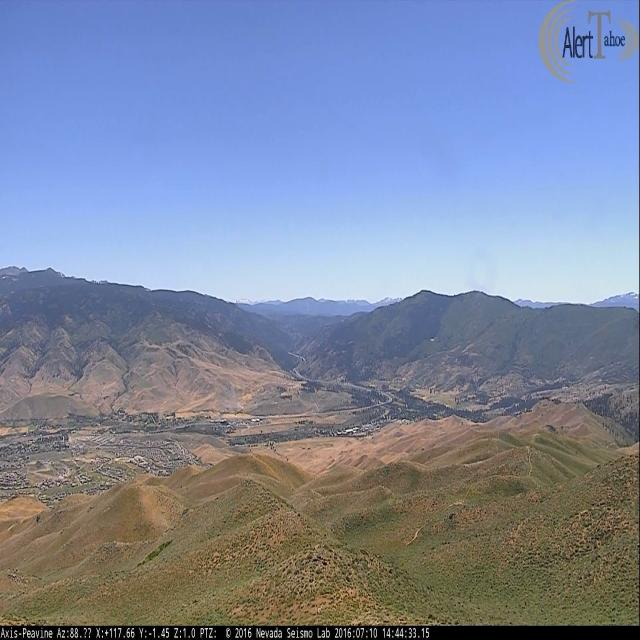smoke: (228, 386, 245, 409)
